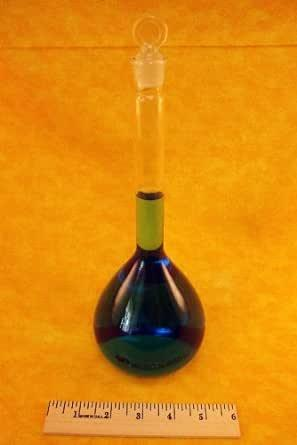Volumetric flask: (85, 9, 212, 378)
